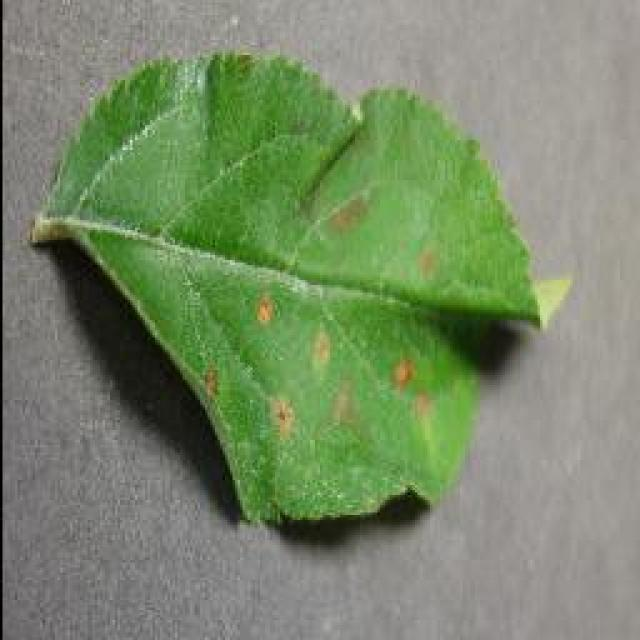apple healthy: (28, 48, 570, 528)
